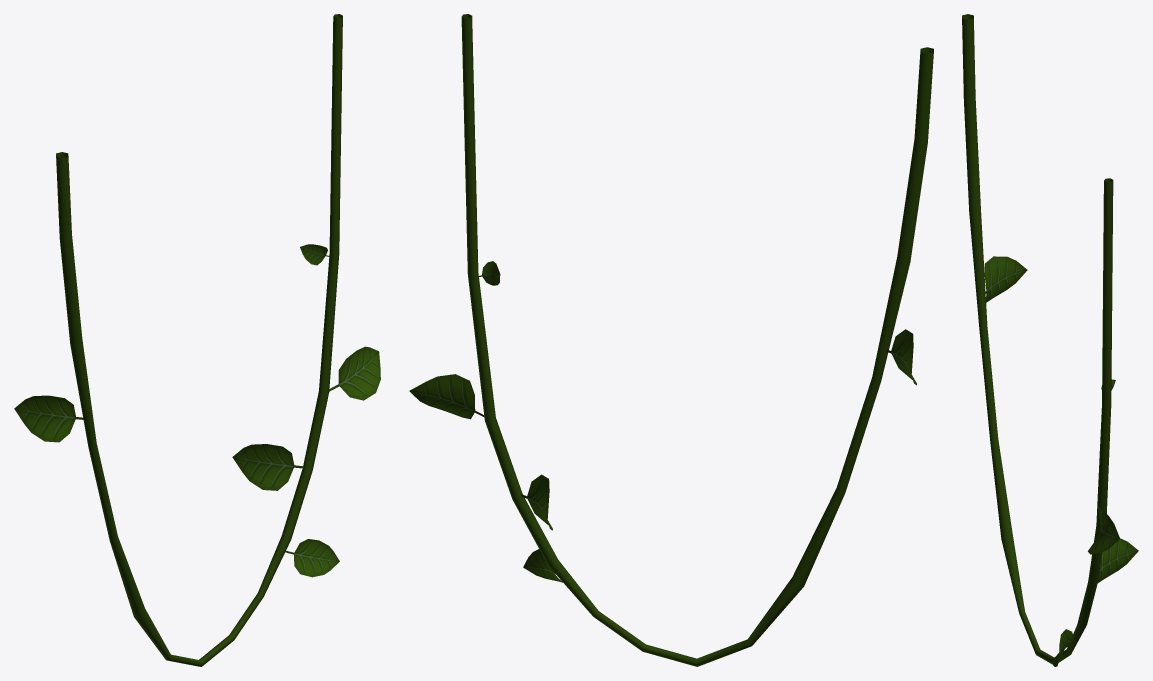
File: Vine02.fbx
The picture shows the model from 3 angles, left to right: view 1: azimuth 30°, elevation 25°; view 2: azimuth 150°, elevation 25°; view 3: azimuth 270°, elevation 25°; orthographic projection. The views are drawn at different scales.
Visible parts, largest first — view 1: Vine02; view 2: Vine02; view 3: Vine02.
Part boxes in pixels (x1,y1,x2,y2): Vine02: (14, 14, 380, 666); Vine02: (409, 14, 933, 666); Vine02: (962, 14, 1138, 666).
Size of the model in its own units: 101 by 135 by 38.93.
